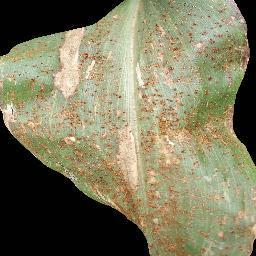Corn_Common_Rust: (139, 0, 256, 256), (59, 0, 138, 225), (0, 29, 60, 172)
